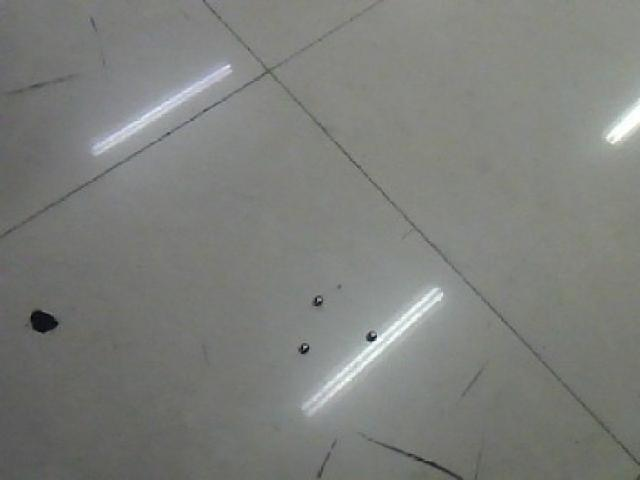steel-ball: (302, 286, 338, 311), (289, 330, 311, 358), (358, 320, 377, 345)
